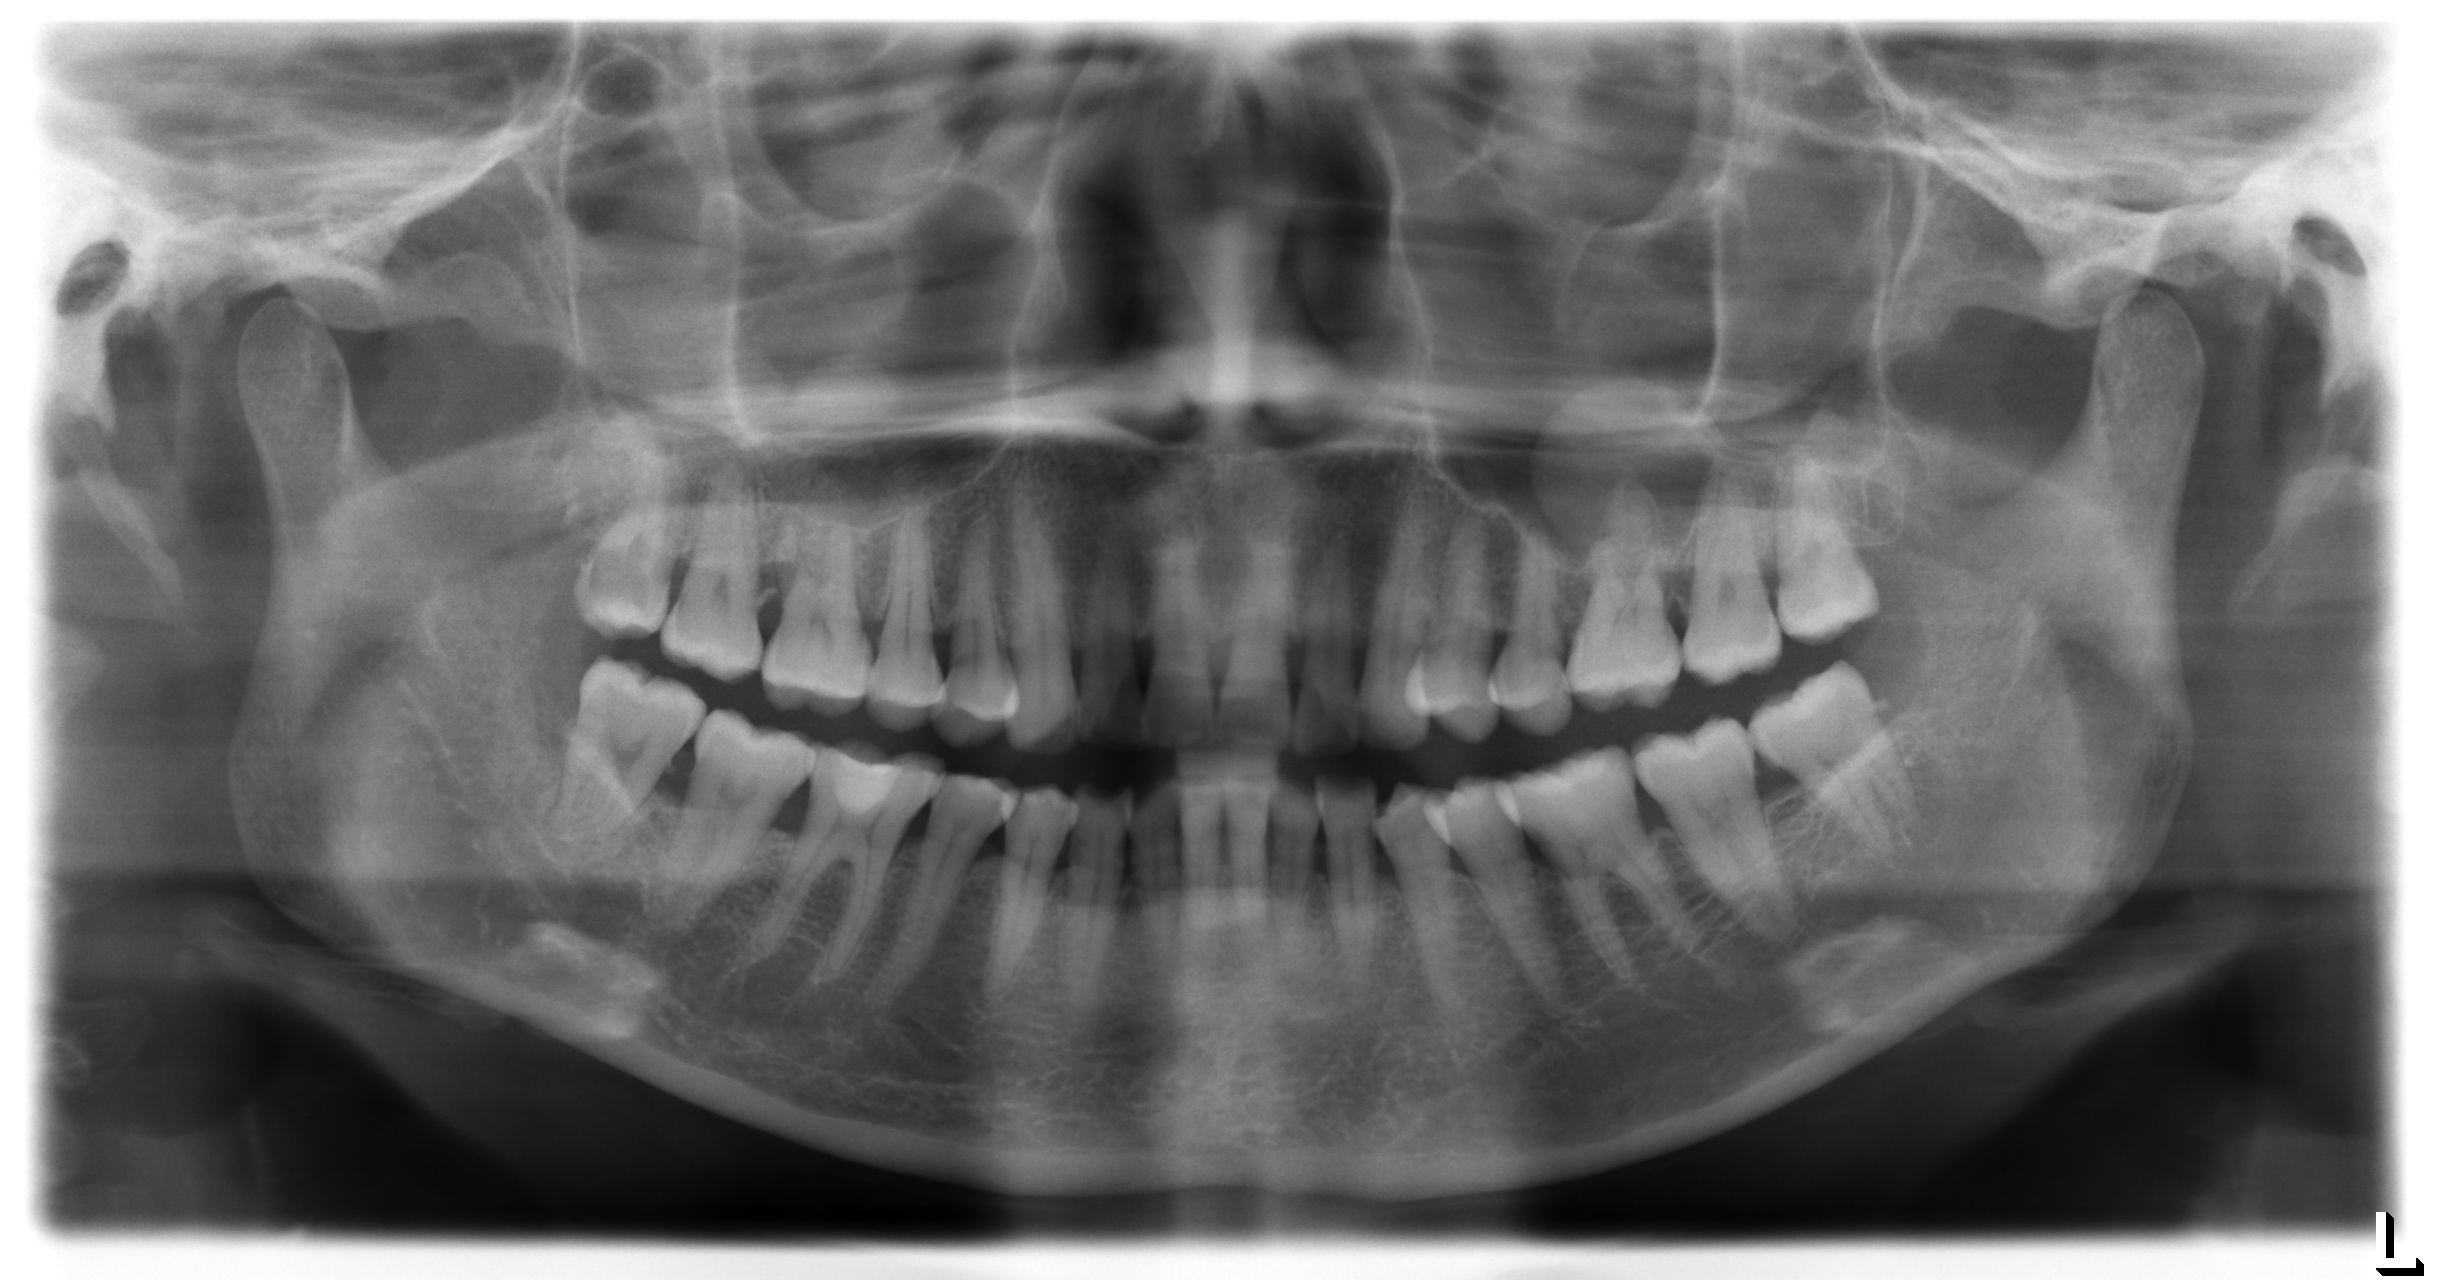Decay: (579, 529, 660, 613)
